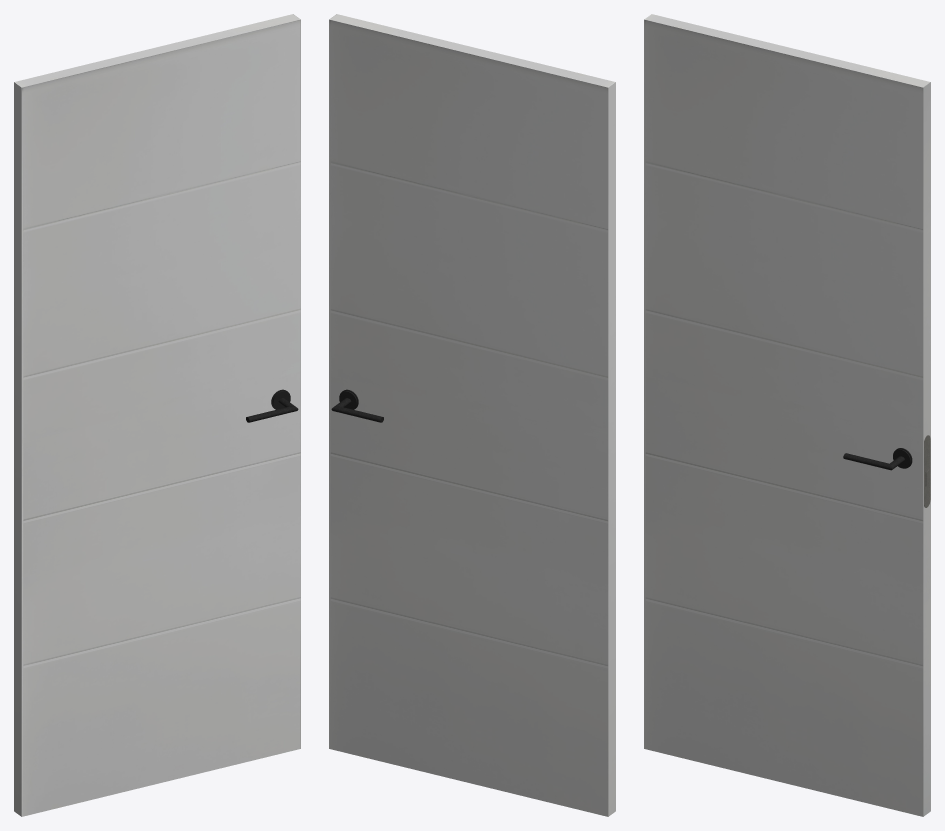
File: doorpane1.glb
3 views of the same model, side by side, from view 1: azimuth 30°, elevation 25°; view 2: azimuth 150°, elevation 25°; view 3: azimuth 330°, elevation 25° (orthographic).
Visible parts, largest first — view 1: Mesh_2, ручки.001; view 2: Mesh_2, ручки; view 3: Mesh_2, ручки.001.
Boxes of the visible parts, x1,y1,x2,y2 form: Mesh_2: (14, 14, 300, 816); ручки.001: (246, 389, 298, 422); Mesh_2: (329, 14, 615, 816); ручки: (331, 389, 383, 422); Mesh_2: (644, 14, 930, 816); ручки.001: (843, 448, 912, 470).
Bounding box in the file's own units: 0.8014 × 2 × 0.1808.
Materials: 4 (4 with a texture image).
